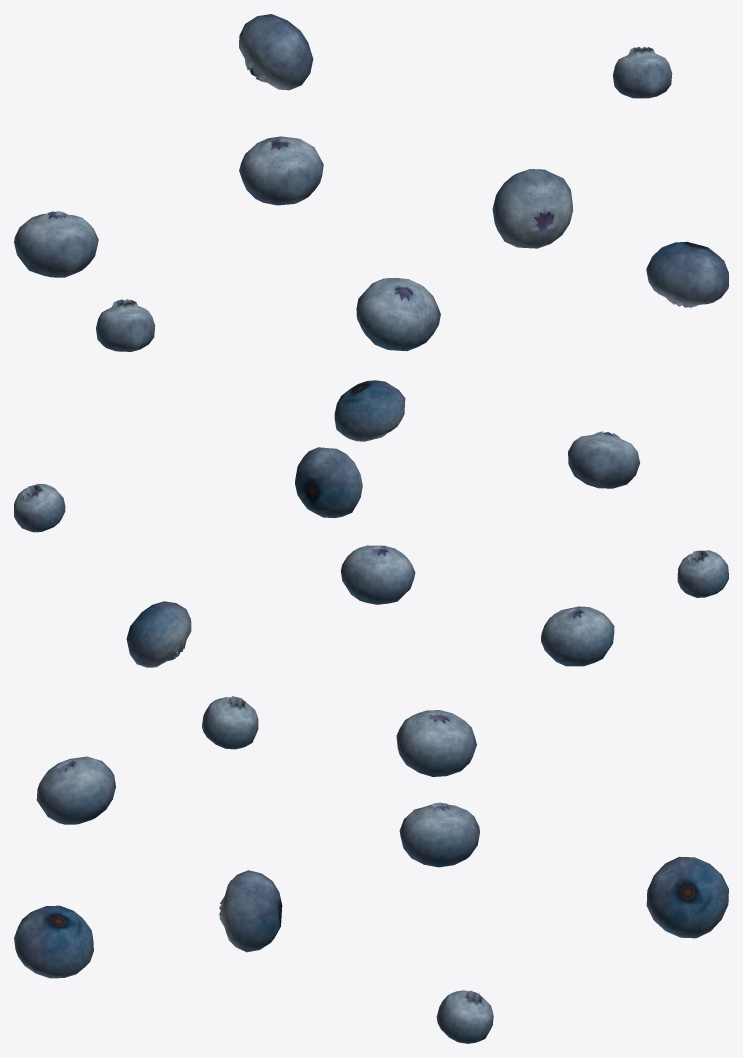
The picture shows the model from 3 angles, top to bottom: view 1: azimuth 30°, elevation 25°; view 2: azimuth 150°, elevation 25°; view 3: azimuth 270°, elevation 25°; orthographic projection. The views are drawn at different scales.
Visible parts, largest first — view 1: berries; view 2: berries; view 3: berries.
Boxes of the visible parts, x1,y1,x2,y2 form: berries: [14, 14, 728, 351]; berries: [14, 380, 728, 667]; berries: [14, 696, 728, 1043].
Bounding box in the file's own units: 0.8795 × 0.1055 × 0.8154.
1 material, 1 textured.
